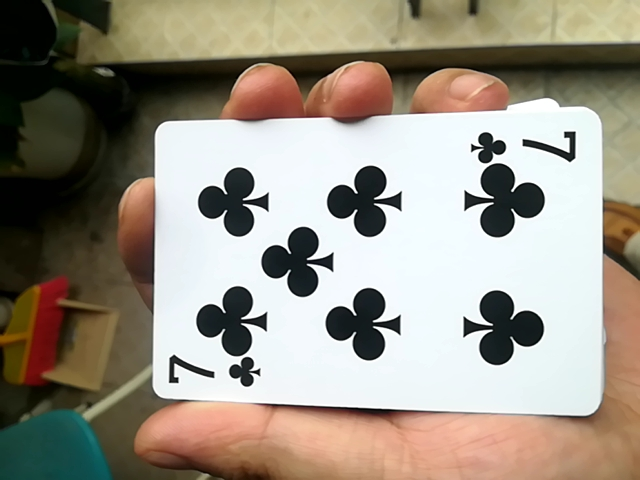mh 7: (135, 104, 595, 423)
